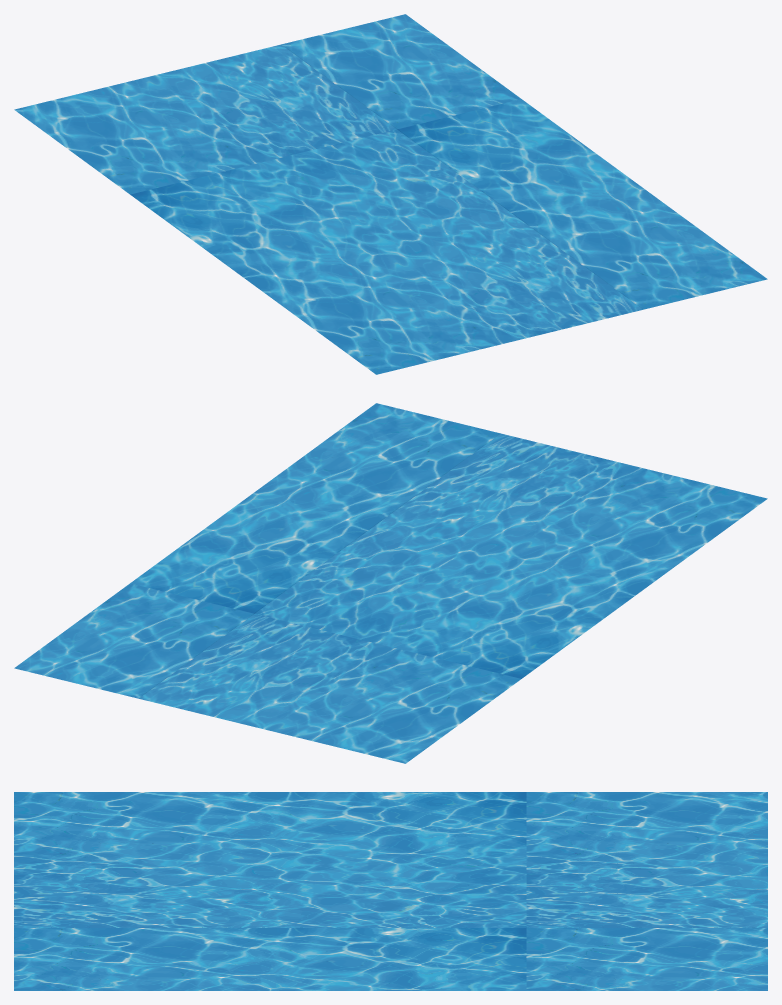
Rendered from sea.obj.
3 renders of one model, top to bottom at view 1: azimuth 30°, elevation 25°; view 2: azimuth 150°, elevation 25°; view 3: azimuth 270°, elevation 25°, orthographic. The views are drawn at different scales.
Parts seen in each view (by area): view 1: Sea:pPlane1; view 2: Sea:pPlane1; view 3: Sea:pPlane1.
Boxes of the visible parts, x1,y1,x2,y2 form: Sea:pPlane1: (14, 14, 767, 374); Sea:pPlane1: (14, 403, 767, 763); Sea:pPlane1: (14, 792, 767, 990).
Bounding box in the file's own units: 8.64 × 0 × 13.85.
Materials: 1 (1 with a texture image).
